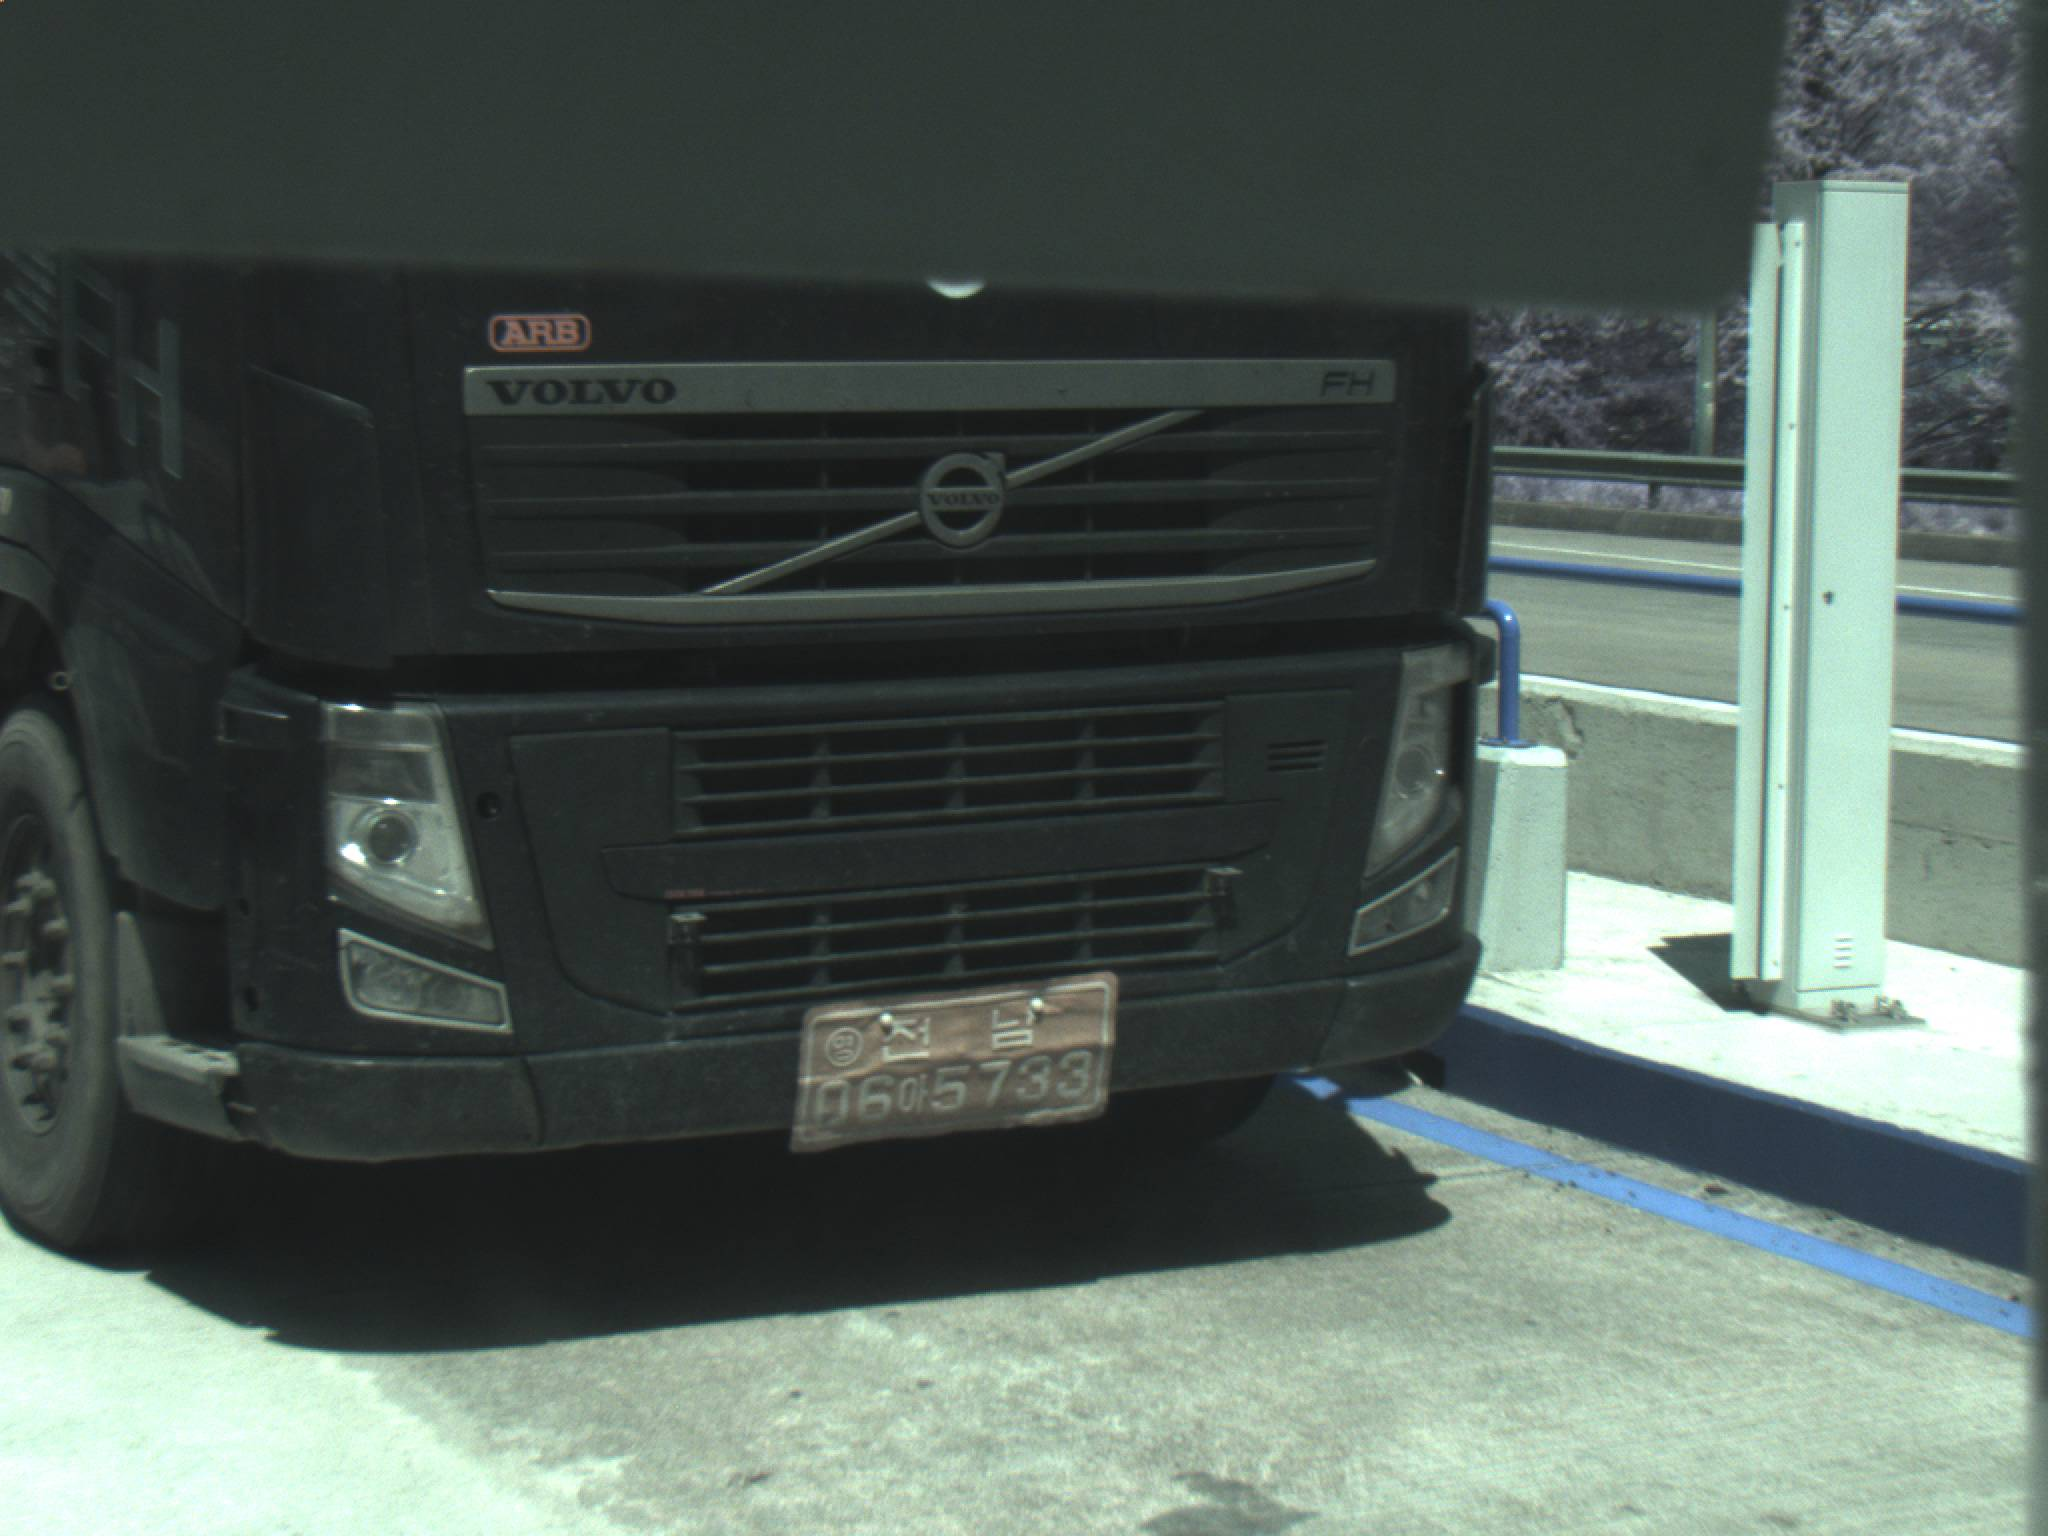car: (1, 305, 1491, 1259)
plate: (783, 967, 1127, 1156)
